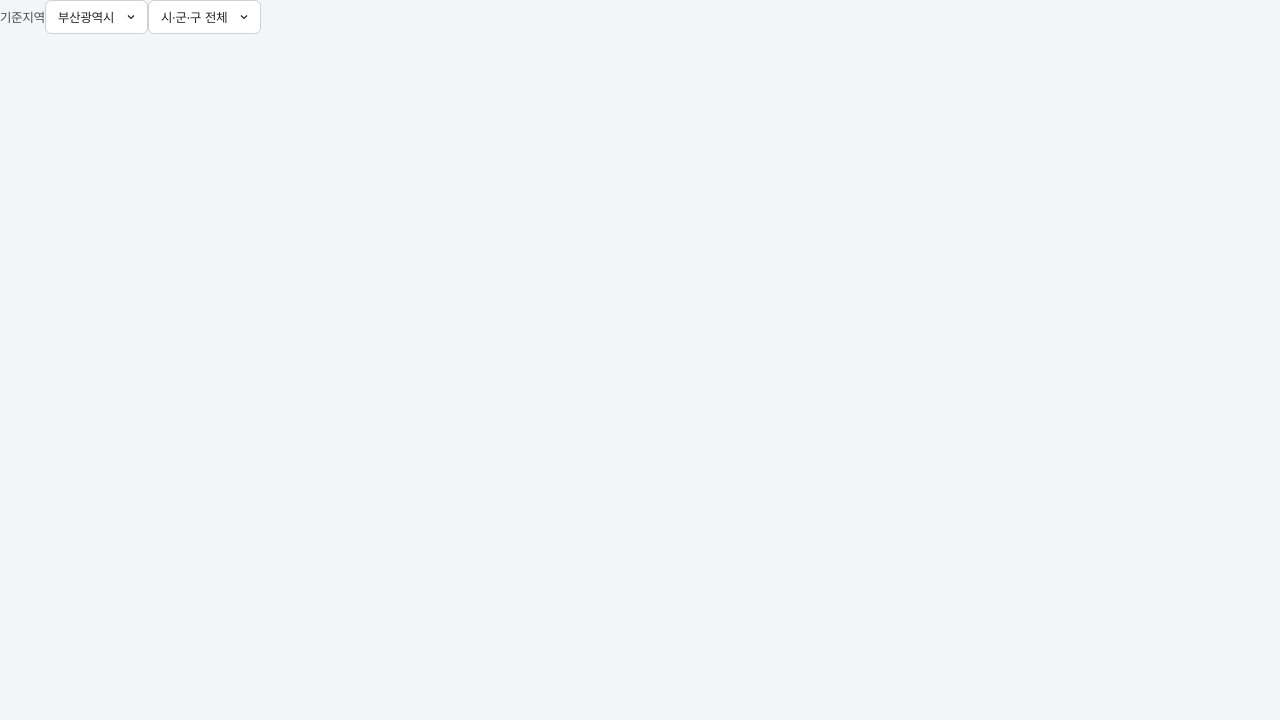
it: 기준지역 — 답변 중에도 바꾼다(FUN-UFR-101002 · 전 R60 ⑦ 잠금 대체) › 시·도가 바뀌면 확인 창(개발서버 Modal) — 제목 새 대화 안내 · 본문 중지 안내 · [새 대화로 시작]이면 도는 질문을 멈추고 바꾼 뒤 새 대화로
Later steps or results of the test are not shown.
Select "서울특별시" in the dropdown named "기준지역 시·도": (96, 17) [45,0,148,34]
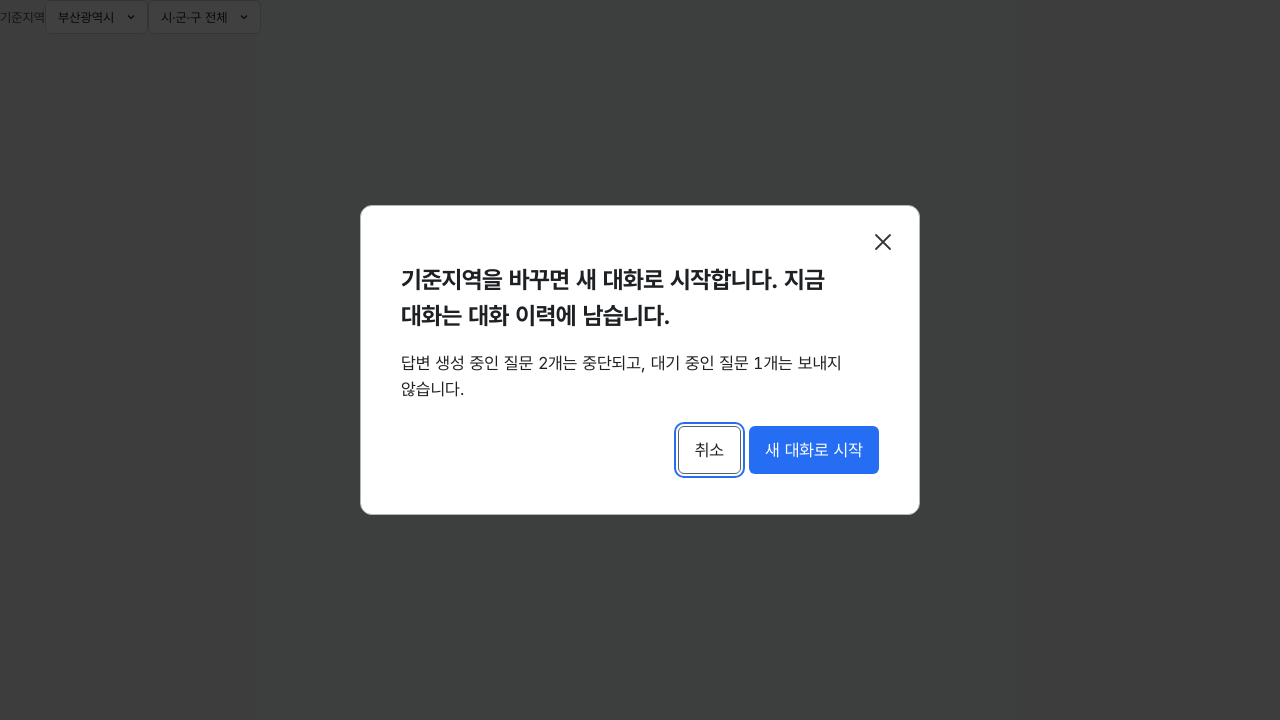
Now the text with class "acm-desc" reads "답변 생성 중인 질문 2개는 중단되고, 대기 중인 질문 1개는 보내지 않습니다.", box [401,353,842,399]
